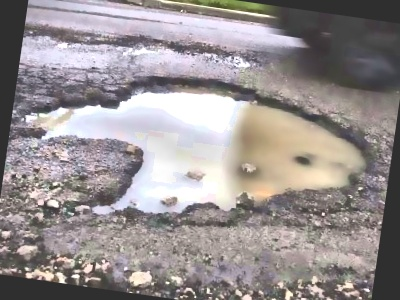pothole: (5, 48, 383, 255)
